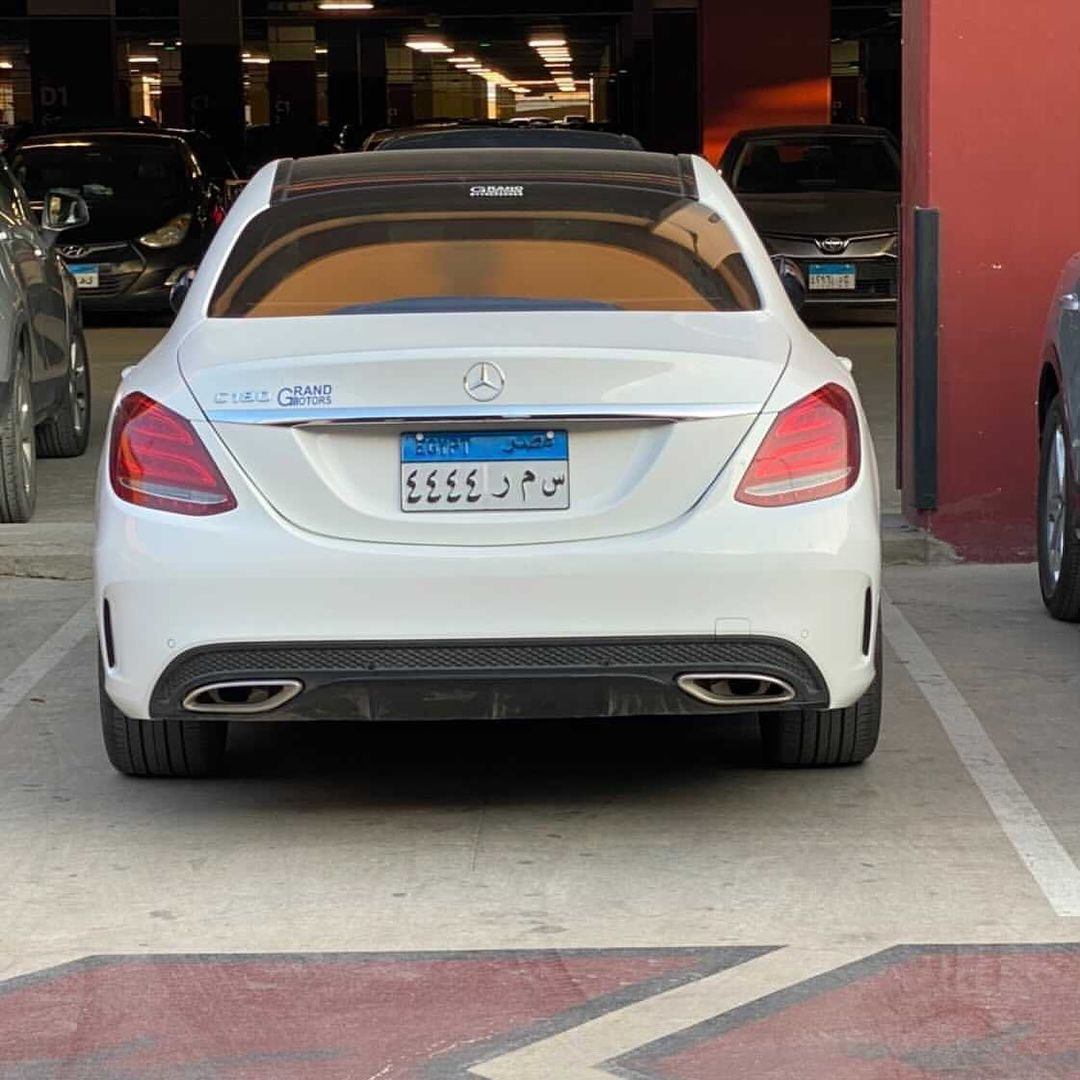carpl: (394, 428, 573, 514)
